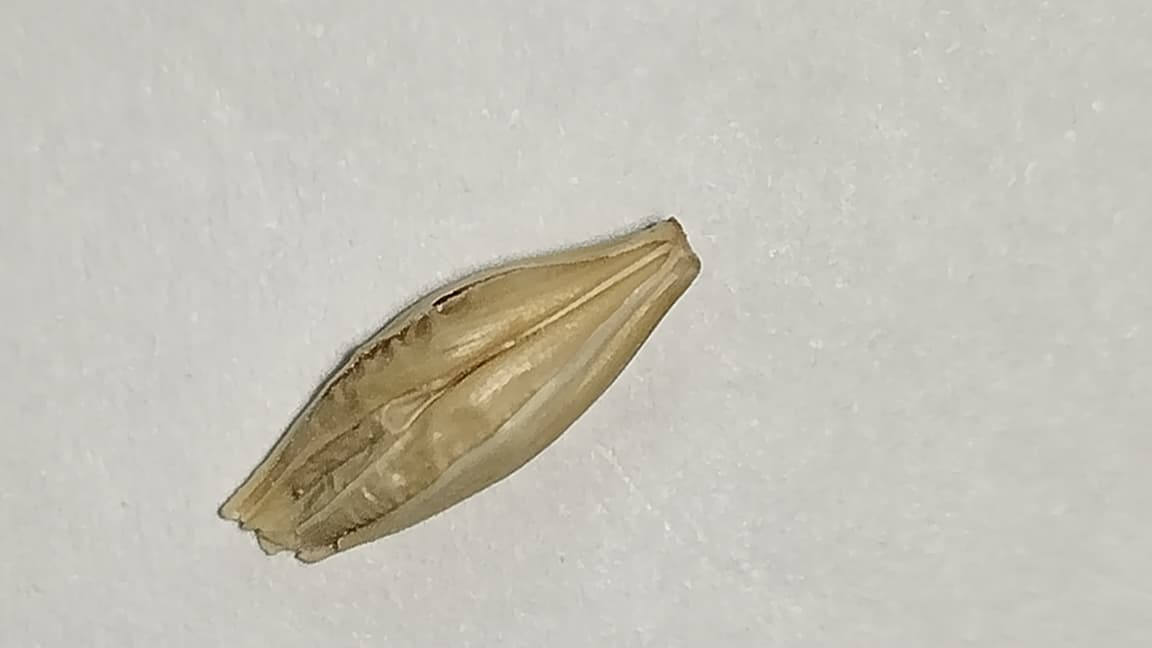healthy-70-60: (246, 218, 698, 550)
